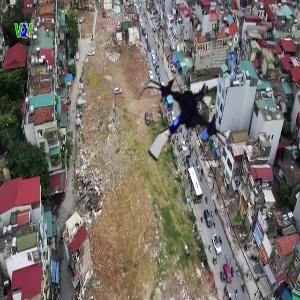drone: (129, 71, 237, 179)
